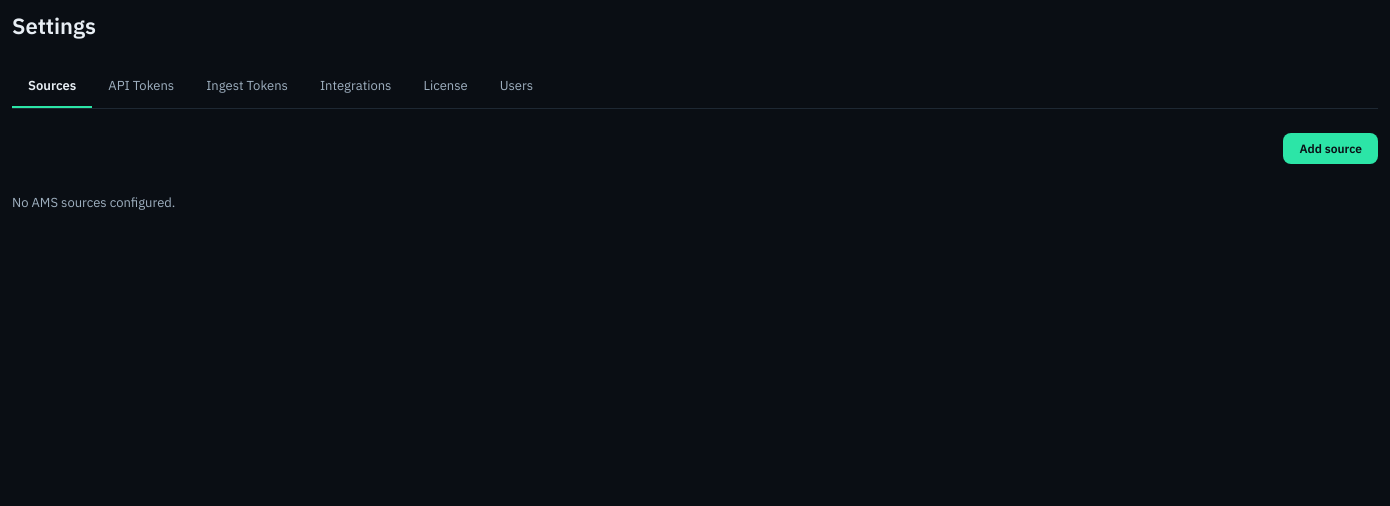
SettingsPage — API token creation persistent panel › (v) panel is dismissed when the user clicks ×
Click the tab "API Tokens" at [141, 86], box [92,64,190,108]
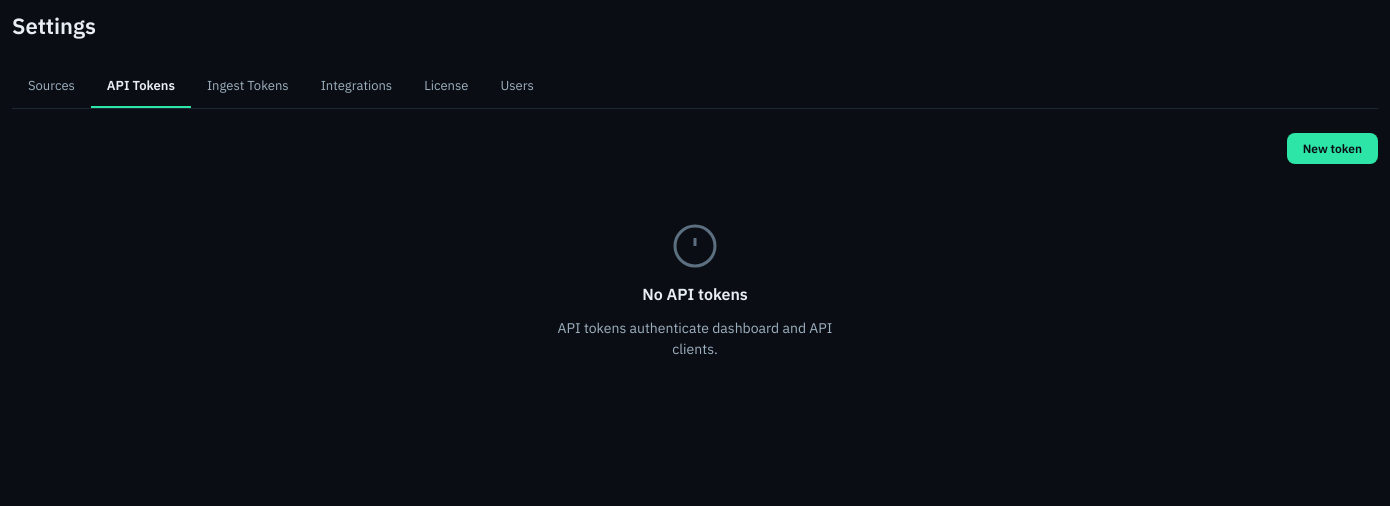
Click the button "New token" at [1332, 148], box [1287,133,1378,164]
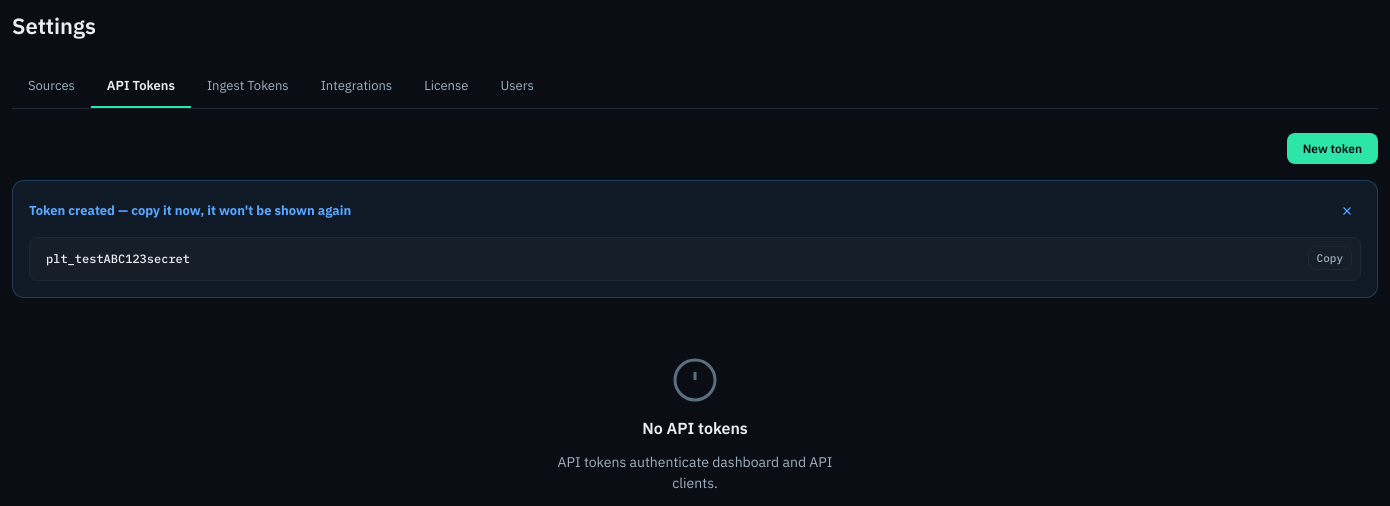
Check: the text "plt_testABC123secret" is shown, box [46,251,190,266]
Click the button named "dismiss token" at [1347, 211], box [1333,197,1361,225]
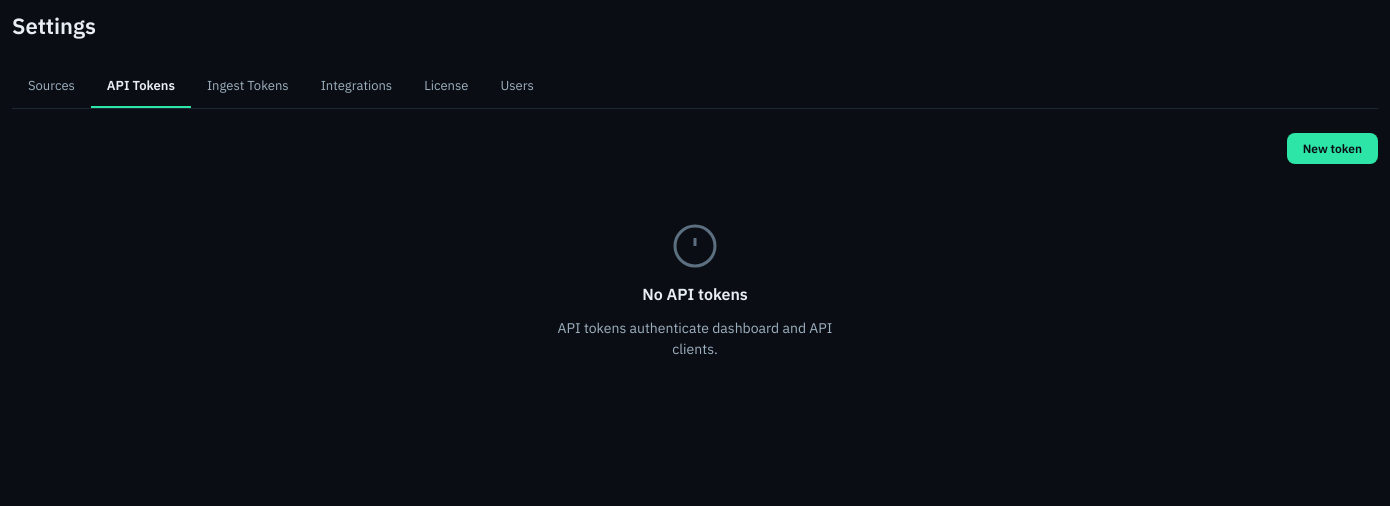
Check: the text "plt_testABC123secret" is gone
